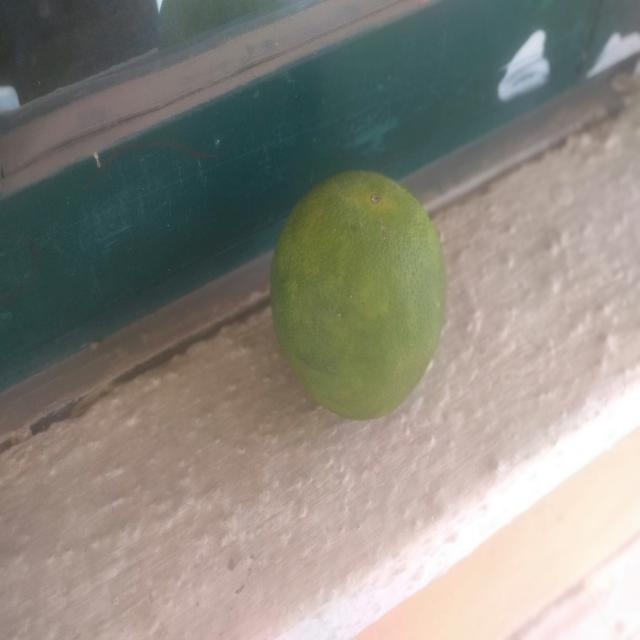Unripe: (257, 146, 472, 458)
